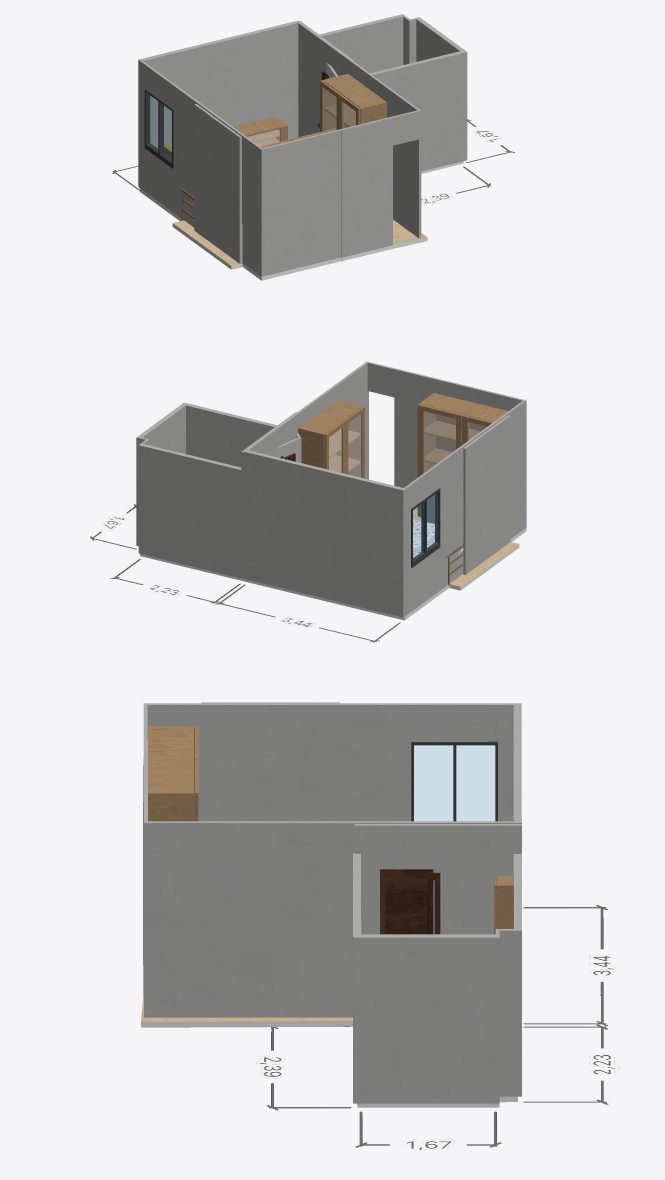
File: 01-birinci-kat.glb
The picture shows the model from 3 angles, top to bottom: view 1: azimuth 30°, elevation 25°; view 2: azimuth 150°, elevation 25°; view 3: azimuth 270°, elevation 25°; orthographic projection. The views are drawn at different scales.
Visible parts, largest first — view 1: Duvar (×9), storage (×2), Oda (×2), wall_022, styledPlanOverlay; view 2: Duvar (×9), storage (×2), Oda (×2), wall_022, styledPlanOverlay, bed; view 3: Duvar (×9), wall_022, storage (×2), styledPlanOverlay, door_016, Oda.
Part boxes in pixels (left/top/right/bottom): Duvar (×9): left=138, top=14, right=467, bottom=276; storage (×2): left=164, top=74, right=386, bottom=158; Oda (×2): left=139, top=161, right=463, bottom=280; wall_022: left=144, top=89, right=173, bottom=168; styledPlanOverlay: left=112, top=119, right=514, bottom=206; Duvar (×9): left=136, top=361, right=526, bottom=617; storage (×2): left=298, top=393, right=508, bottom=517; Oda (×2): left=140, top=507, right=526, bottom=620; wall_022: left=411, top=488, right=440, bottom=567; styledPlanOverlay: left=90, top=504, right=400, bottom=642; bed: left=413, top=519, right=463, bottom=585; Duvar (×9): left=143, top=703, right=521, bottom=1103; wall_022: left=411, top=741, right=497, bottom=821; storage (×2): left=147, top=726, right=513, bottom=934; styledPlanOverlay: left=254, top=905, right=620, bottom=1151; door_016: left=380, top=869, right=433, bottom=934; Oda: left=141, top=961, right=517, bottom=1107.
Size of what is drawn, in the model's own units: 0.4717 by 0.1388 by 0.3954.
15 materials, 10 textured.
